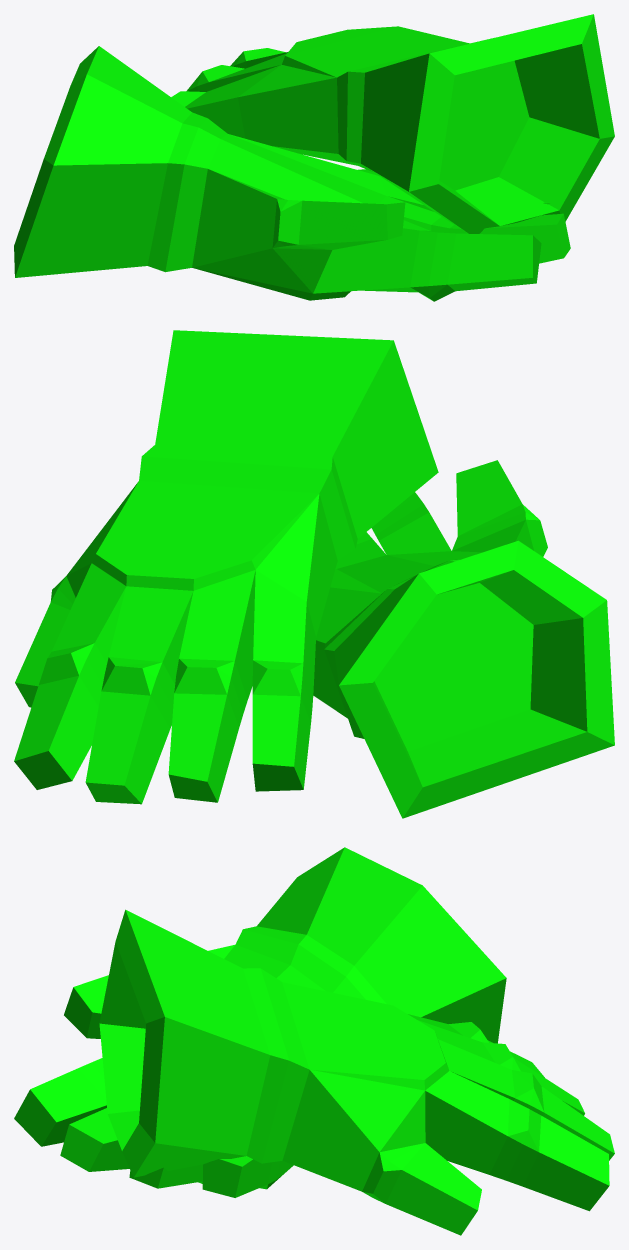
File: SM_Armor_Gloves_B_Placed_Fantasy.fbx
3 views of the same model, one above another, from view 1: azimuth 30°, elevation 25°; view 2: azimuth 150°, elevation 25°; view 3: azimuth 270°, elevation 25° (orthographic). The views are drawn at different scales.
Visible parts, largest first — view 1: armor-gloves-b-placed-fantasy; view 2: armor-gloves-b-placed-fantasy; view 3: armor-gloves-b-placed-fantasy.
Part boxes in pixels (bbox=[...]): armor-gloves-b-placed-fantasy: bbox=[14, 14, 614, 301]; armor-gloves-b-placed-fantasy: bbox=[14, 330, 614, 818]; armor-gloves-b-placed-fantasy: bbox=[14, 847, 614, 1235].
Size of the model in its own units: 0.3115 by 0.1551 by 0.3274.
